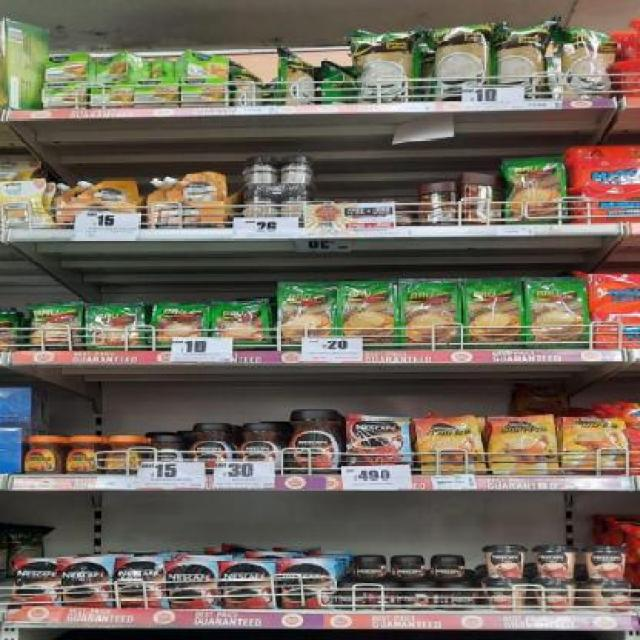Coffee: (489, 416, 557, 475), (417, 418, 486, 473), (286, 409, 342, 474), (561, 418, 627, 473), (350, 416, 410, 469), (279, 559, 330, 607), (61, 560, 111, 606), (116, 560, 166, 606), (239, 424, 286, 471), (222, 562, 270, 607), (192, 424, 236, 473), (12, 558, 58, 604), (169, 562, 216, 607), (143, 436, 186, 472), (23, 436, 62, 475), (65, 437, 101, 474), (104, 437, 139, 474), (442, 586, 478, 609), (402, 586, 436, 610), (334, 585, 366, 609), (355, 556, 385, 580), (430, 557, 464, 578), (392, 558, 425, 579), (368, 586, 397, 608)
